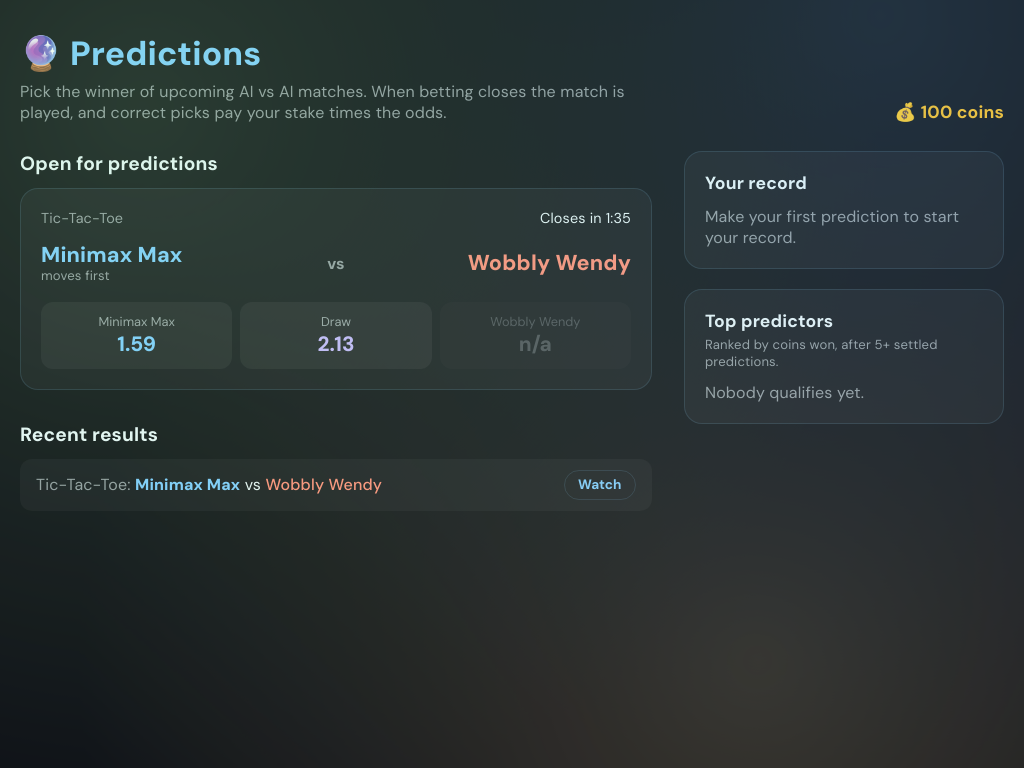
Test: blocks stakes above the balance
Click the radio button labelled "Draw 2.13" at (336, 335), box [240,302,432,369]
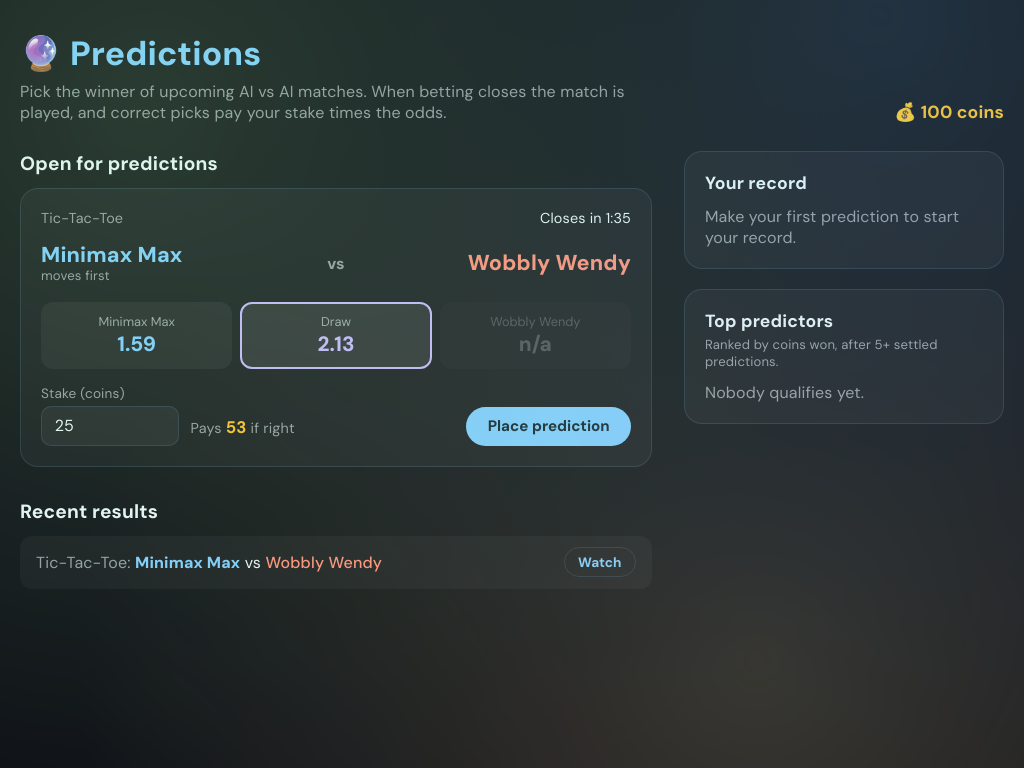
Replace the text in the number field labelled "Stake (coins)" with "300" at (110, 426), box [41,406,179,446]
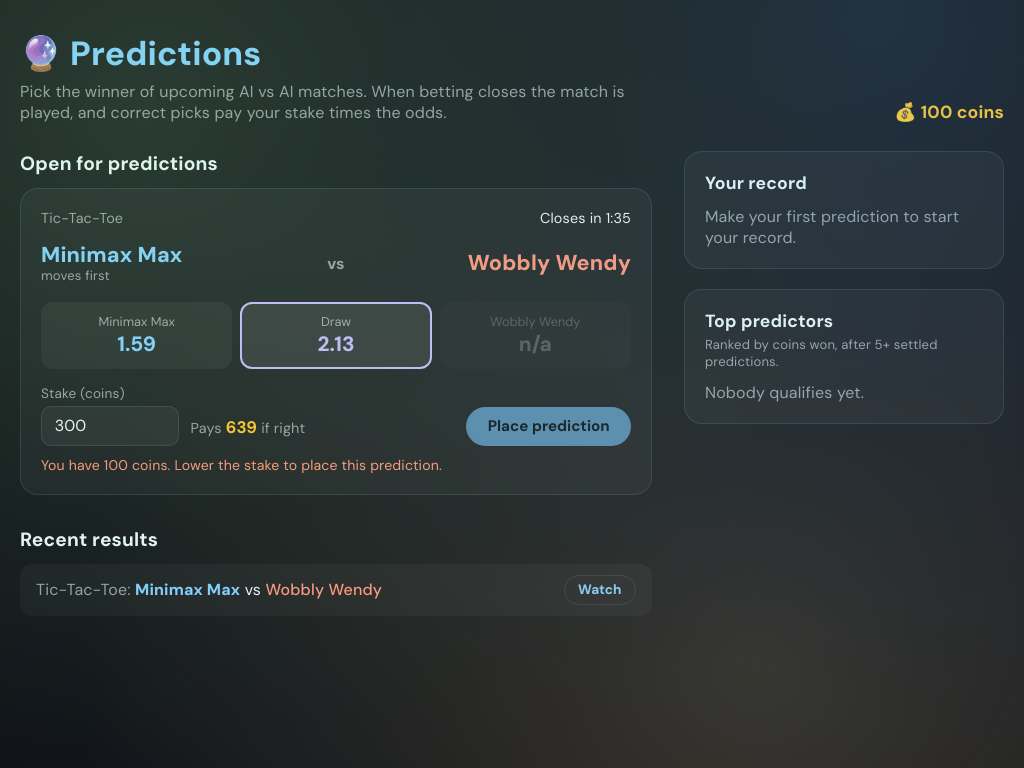
Expected: the text "You have 100 coins. Lower the stake to place this prediction." is shown, [41,456,442,474]
Expected: the button "Place prediction" is disabled, [466,406,631,446]
